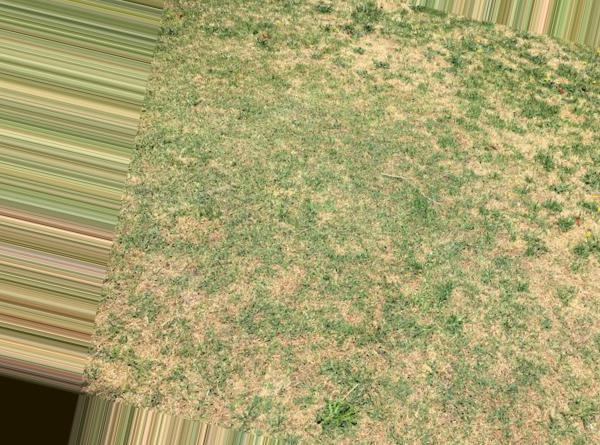patch: (464, 99, 591, 222), (149, 258, 259, 400), (268, 343, 430, 438), (514, 238, 599, 374), (342, 43, 456, 95), (367, 36, 406, 84)
